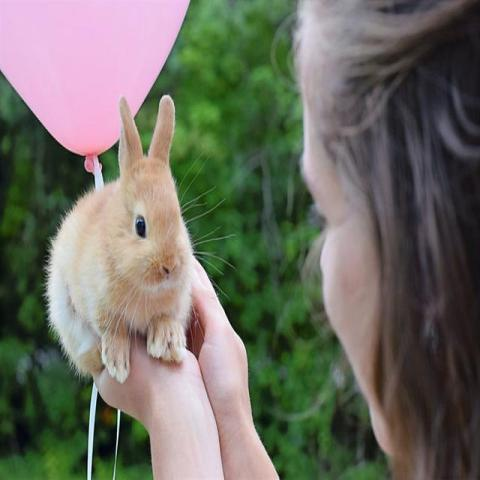small_animal: (42, 92, 232, 386)
